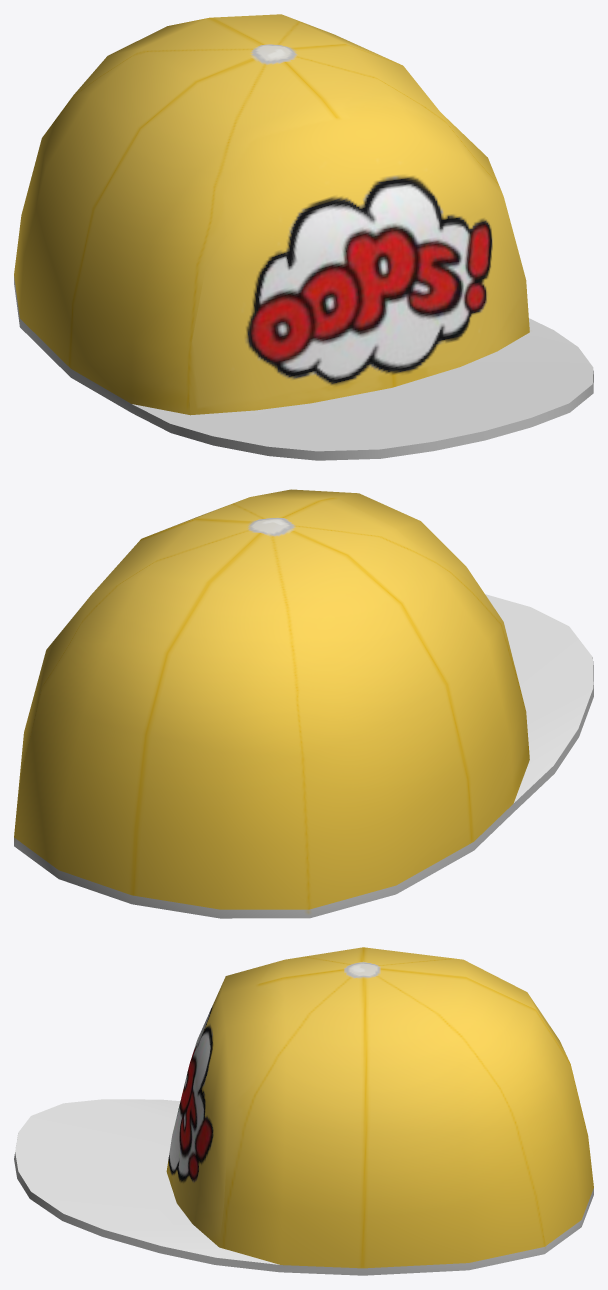
File: boy_cap3.FBX
3 renders of one model, top to bottom at view 1: azimuth 30°, elevation 25°; view 2: azimuth 150°, elevation 25°; view 3: azimuth 270°, elevation 25°, orthographic. The views are drawn at different scales.
Visible parts, largest first — view 1: boy_cap17; view 2: boy_cap17; view 3: boy_cap17.
Boxes of the visible parts, left/top/right/bottom form: boy_cap17: left=14, top=14, right=593, bottom=460; boy_cap17: left=14, top=489, right=593, bottom=918; boy_cap17: left=14, top=947, right=593, bottom=1275.
Bounding box in the file's own units: 45.06 × 35.7 × 68.37.
